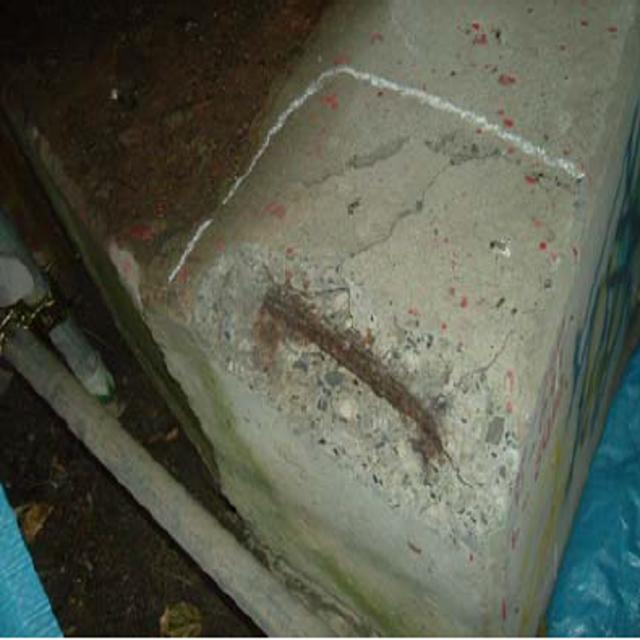spalling: (178, 236, 532, 583)
